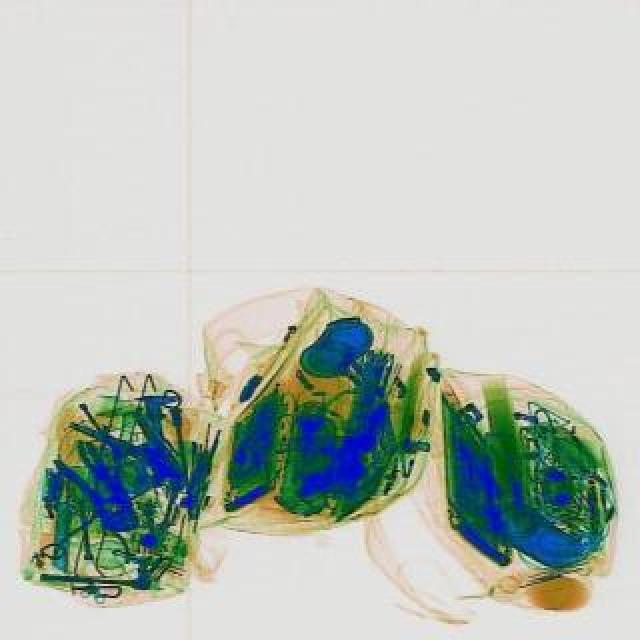wrench: (48, 434, 148, 542), (72, 430, 144, 518)
